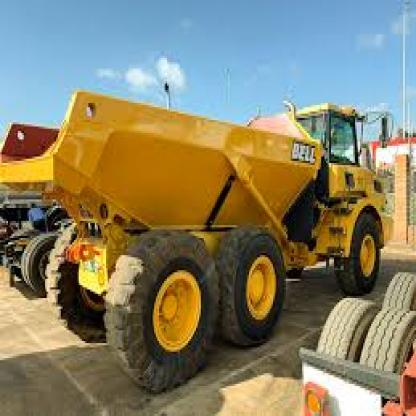dump_truck: (6, 71, 398, 377)
